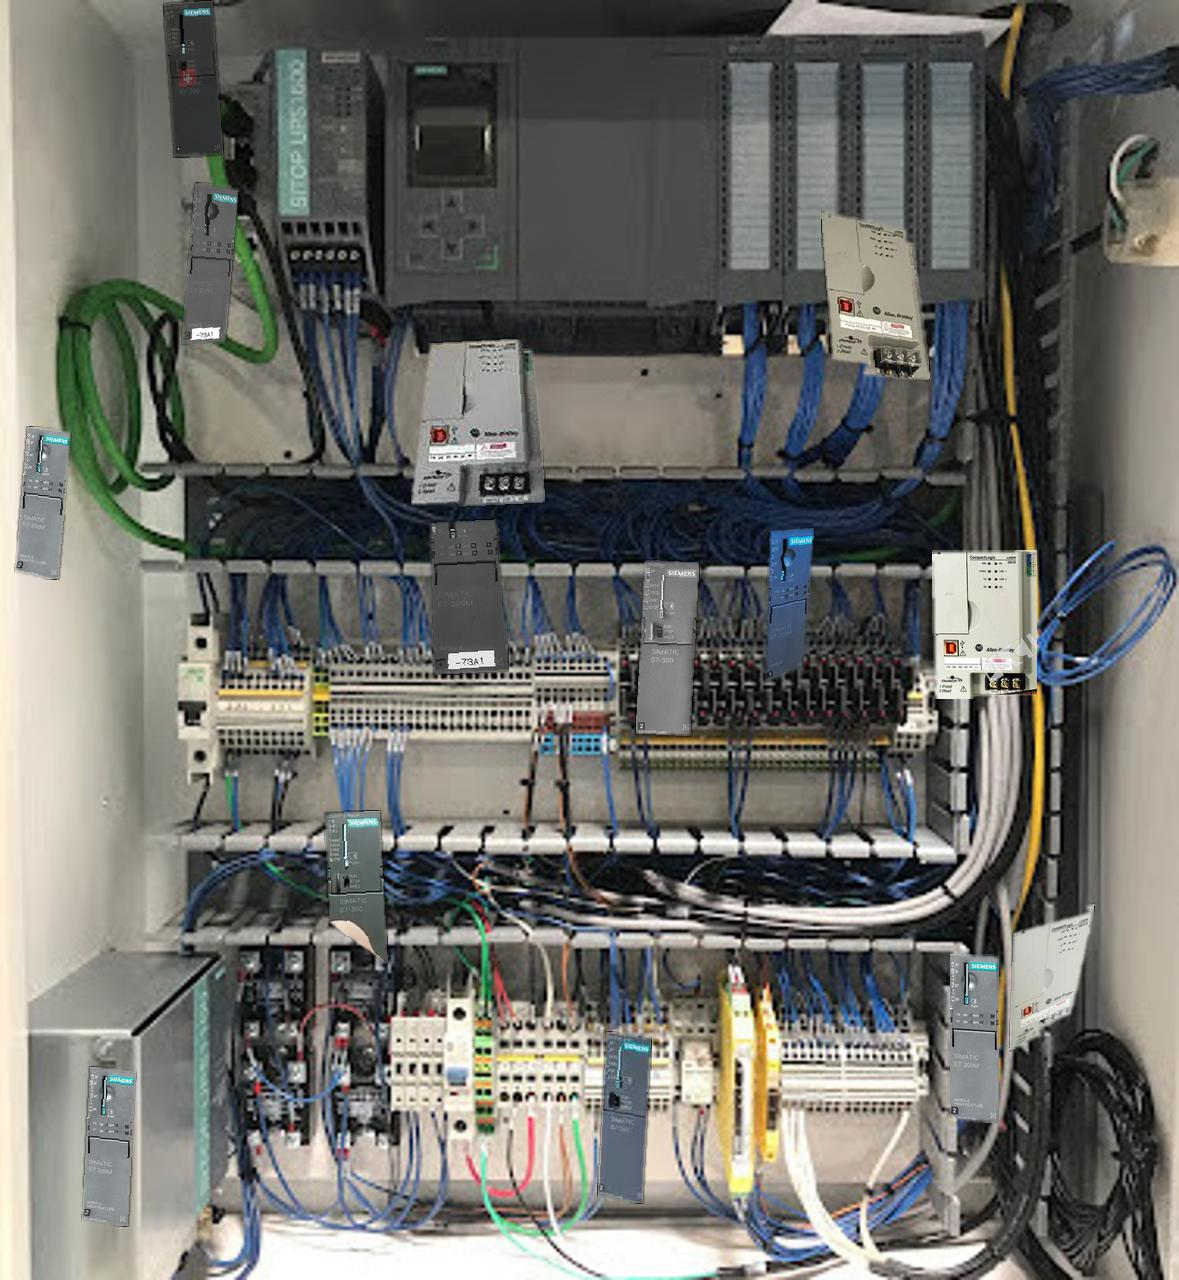AllenBradley: (410, 339, 544, 505), (821, 212, 929, 379), (932, 550, 1036, 698), (1009, 904, 1094, 1049)
Siemens: (636, 561, 698, 734), (325, 811, 387, 963), (164, 1, 222, 157), (598, 1032, 650, 1202)
